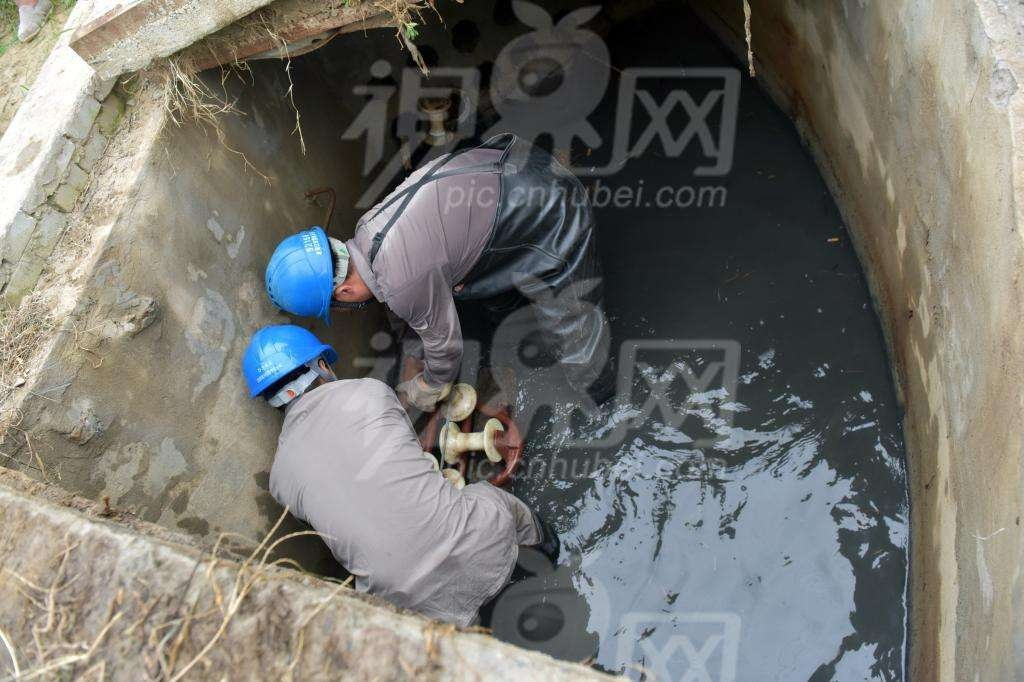blue: (261, 220, 374, 326), (240, 322, 336, 417)
